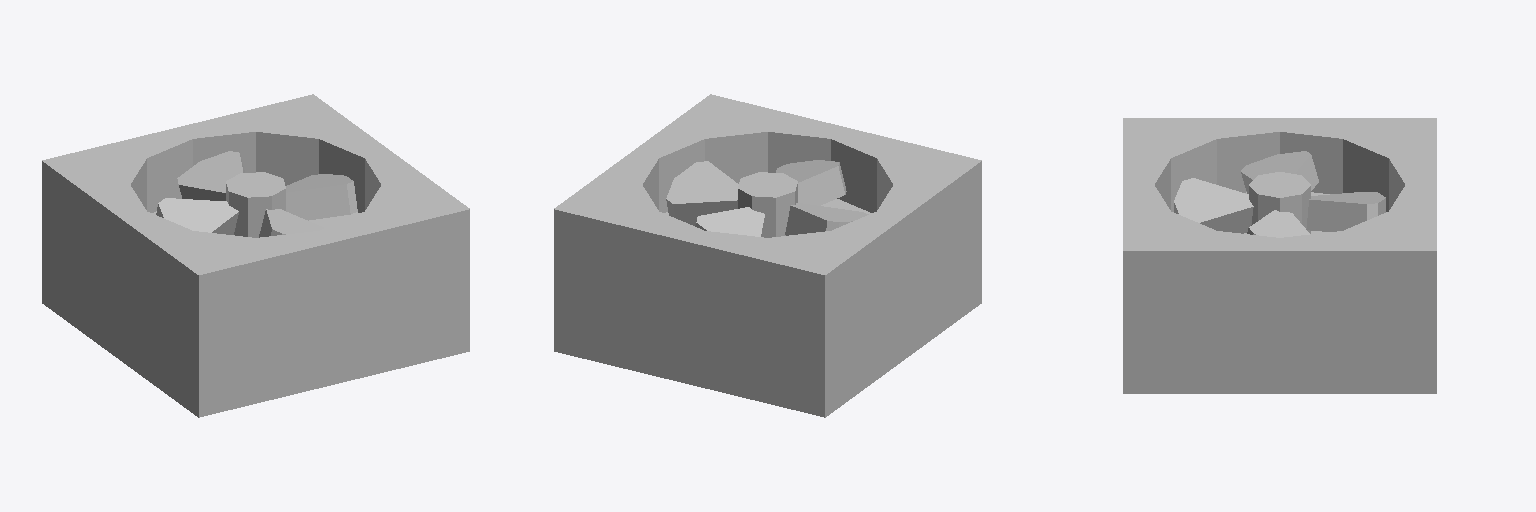
The model's file is fan-four.obj.
The picture shows the model from 3 angles: view 1: azimuth 30°, elevation 25°; view 2: azimuth 150°, elevation 25°; view 3: azimuth 270°, elevation 25°; orthographic projection.
Parts seen in each view (by area): view 1: fan-four, fan; view 2: fan-four, fan; view 3: fan-four, fan.
Boxes of the visible parts, x1=… form: fan-four: x1=42, y1=94, x2=469, y2=417; fan: x1=156, y1=151, x2=357, y2=237; fan-four: x1=554, y1=94, x2=981, y2=417; fan: x1=666, y1=160, x2=868, y2=237; fan-four: x1=1123, y1=118, x2=1436, y2=393; fan: x1=1174, y1=151, x2=1385, y2=237.
Bounding box in the file's own units: 1 × 0.5 × 1.